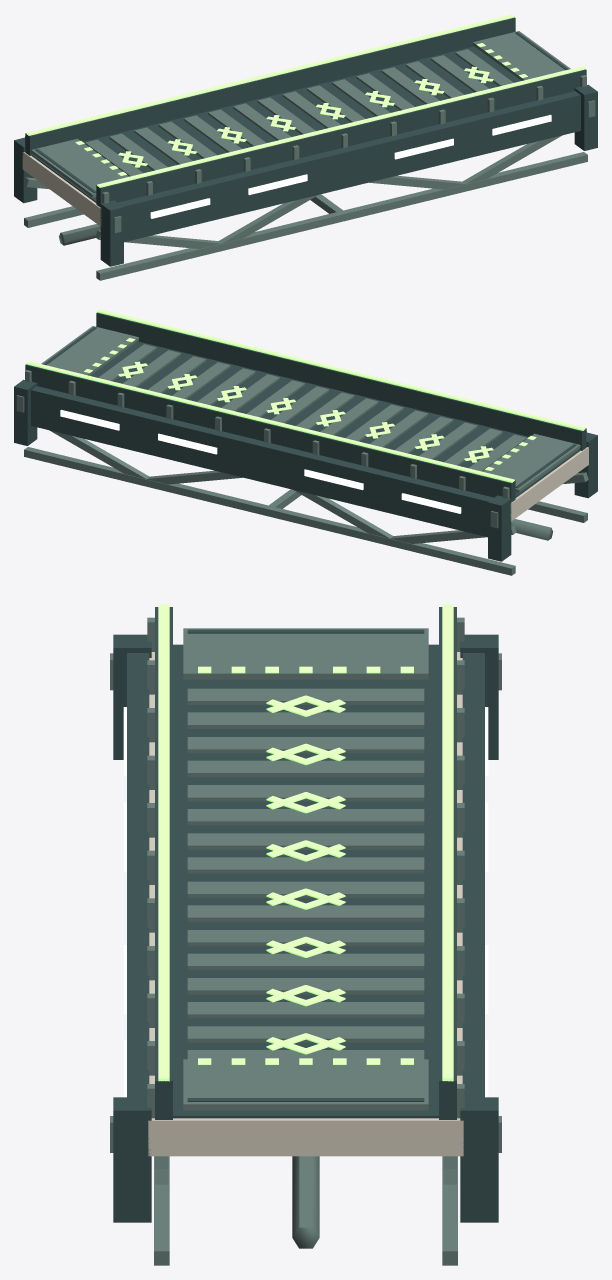
Rendered from Deck_Conveyor_Belt_v4_10_lab.glb.
3 renders of one model, top to bottom at view 1: azimuth 30°, elevation 25°; view 2: azimuth 150°, elevation 25°; view 3: azimuth 270°, elevation 25°, orthographic. The views are drawn at different scales.
Visible parts, largest first — view 1: Deck_Conveyor_Belt_v4_10, Treads, TreadsRev; view 2: Deck_Conveyor_Belt_v4_10, Treads, TreadsRev; view 3: Deck_Conveyor_Belt_v4_10, Treads, TreadsRev.
Part boxes in pixels (x1,y1,x2,y2): Deck_Conveyor_Belt_v4_10: (14, 14, 597, 280); Treads: (86, 49, 513, 175); TreadsRev: (85, 50, 513, 176); Deck_Conveyor_Belt_v4_10: (14, 309, 597, 575); Treads: (98, 344, 525, 470); TreadsRev: (99, 344, 526, 471); Deck_Conveyor_Belt_v4_10: (110, 604, 501, 1265); Treads: (187, 688, 424, 1059); TreadsRev: (187, 689, 424, 1059).
Size of the model in its own units: 10.04 by 1.83 by 3.48.
